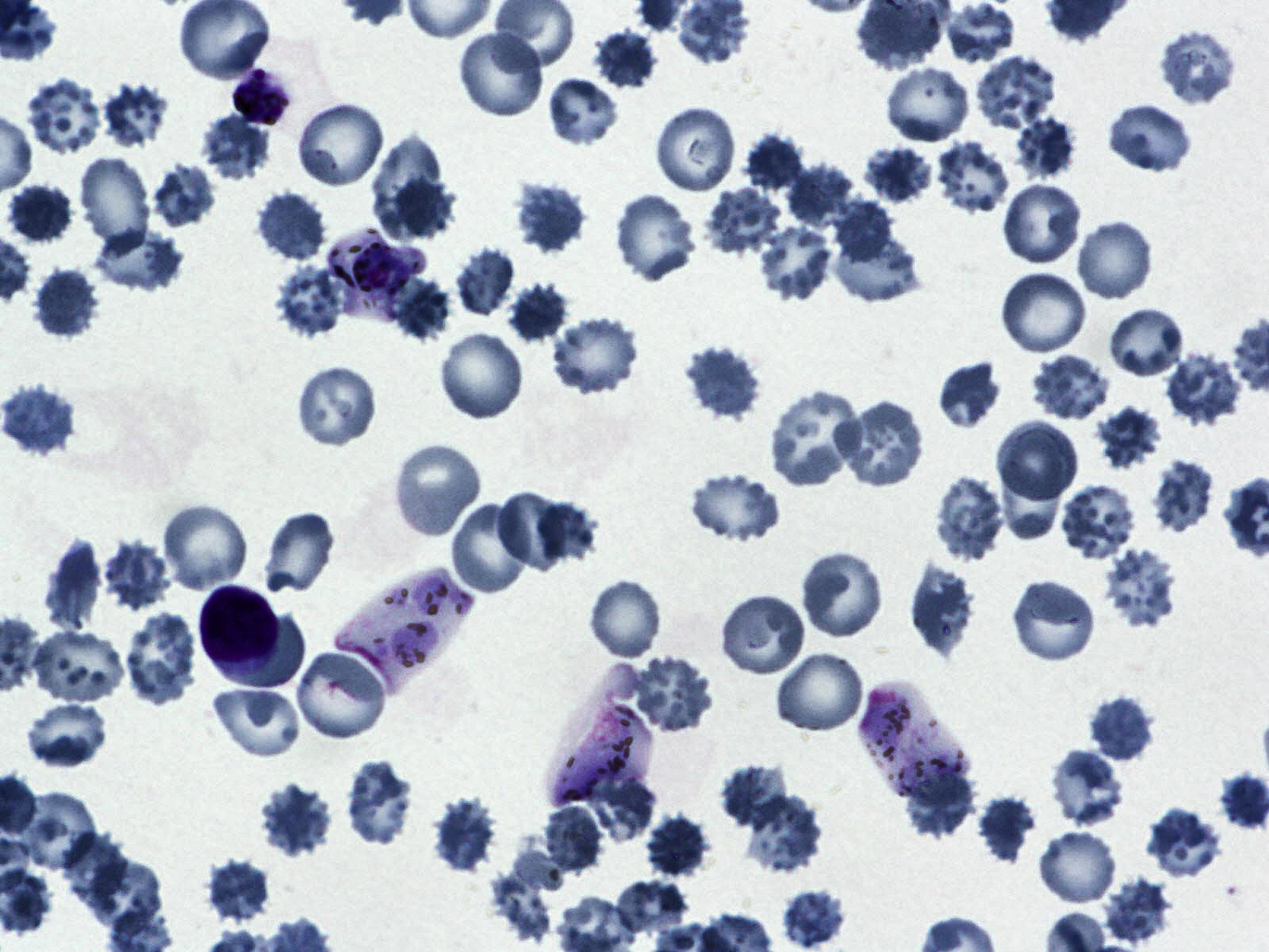Infected: (335, 562, 477, 694), (545, 662, 656, 805), (857, 680, 971, 798), (230, 33, 331, 133), (327, 227, 424, 322), (198, 582, 281, 672)
Uninfected: (768, 387, 864, 491), (393, 437, 485, 540), (159, 499, 251, 593), (297, 650, 389, 743), (438, 327, 527, 423), (294, 99, 386, 191), (833, 400, 926, 491), (458, 27, 547, 121), (25, 625, 128, 705), (797, 547, 884, 641), (773, 648, 867, 735), (450, 501, 535, 597), (611, 191, 699, 283), (999, 269, 1090, 357), (654, 103, 738, 198), (75, 152, 155, 251), (723, 593, 807, 685), (211, 681, 306, 762), (551, 311, 641, 396), (296, 363, 380, 451), (995, 420, 1083, 504), (970, 55, 1062, 135), (119, 612, 194, 710), (688, 465, 781, 544), (1003, 179, 1086, 267), (1010, 578, 1095, 663), (91, 222, 186, 298), (1104, 99, 1194, 176), (1058, 483, 1140, 566), (905, 568, 976, 663), (1038, 827, 1121, 908), (928, 136, 1010, 217), (740, 794, 824, 873), (1077, 217, 1155, 302), (588, 577, 665, 661), (886, 67, 972, 142), (937, 471, 1005, 565), (36, 536, 104, 630), (681, 343, 761, 422), (1160, 27, 1240, 106), (20, 791, 97, 873), (263, 511, 338, 595), (377, 171, 461, 246), (343, 762, 416, 848), (636, 655, 715, 734), (1049, 747, 1123, 827), (761, 225, 838, 301), (86, 862, 166, 935), (25, 700, 110, 768), (546, 74, 623, 149), (496, 491, 565, 574), (0, 382, 75, 458), (275, 263, 349, 338), (512, 179, 589, 251), (27, 79, 99, 156), (1165, 352, 1242, 424), (252, 785, 331, 854), (427, 793, 495, 873), (1140, 810, 1222, 876), (1030, 350, 1107, 420), (33, 267, 104, 342), (257, 188, 328, 263), (540, 798, 608, 876), (1110, 548, 1175, 629), (102, 539, 174, 610), (832, 241, 920, 299), (61, 832, 126, 910), (1111, 308, 1183, 378), (1095, 873, 1169, 941), (707, 189, 782, 254), (1149, 460, 1213, 536), (904, 775, 976, 839), (593, 781, 660, 849), (491, 870, 550, 947), (938, 359, 1003, 428), (454, 246, 516, 318), (151, 161, 217, 227), (104, 83, 169, 149), (204, 860, 271, 924), (785, 163, 852, 227), (203, 112, 269, 176), (945, 4, 1015, 63), (616, 883, 688, 940), (1093, 695, 1154, 762), (647, 812, 709, 877), (1095, 406, 1161, 467), (1012, 117, 1075, 180), (832, 198, 893, 263), (980, 797, 1037, 866), (596, 26, 658, 89), (723, 768, 789, 827), (392, 277, 450, 342), (782, 892, 845, 951), (863, 148, 931, 202), (744, 133, 805, 192), (9, 185, 70, 244), (508, 284, 566, 342), (539, 500, 596, 558)
